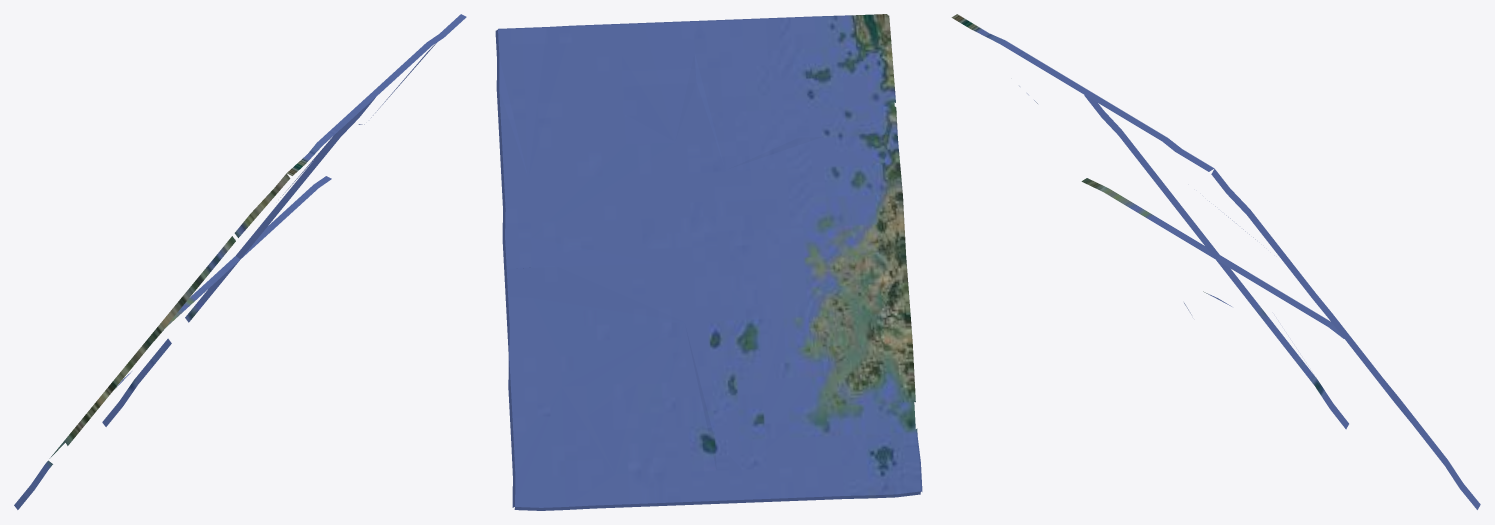
The picture shows the model from 3 angles, left to right: view 1: azimuth 30°, elevation 25°; view 2: azimuth 150°, elevation 25°; view 3: azimuth 270°, elevation 25°; orthographic projection. The views are drawn at different scales.
Size of the model in its own units: 316714 by 260407 by 298446.
Materials: 1 (1 with a texture image).
